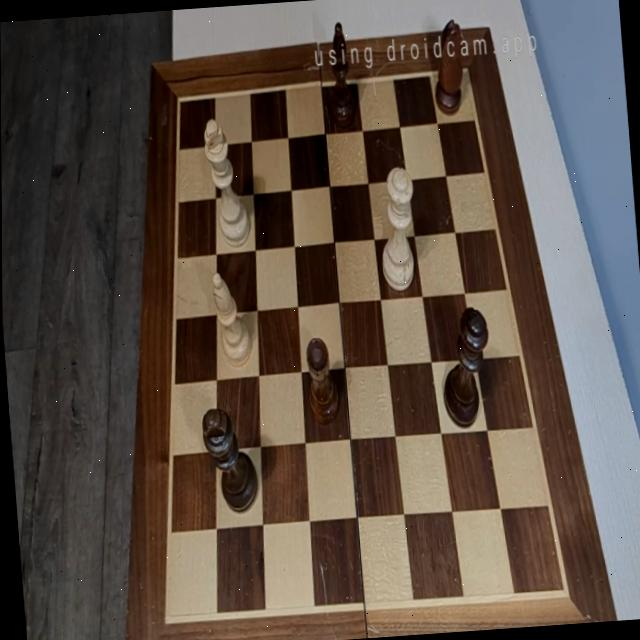black_bishop: (322, 20, 357, 130)
black_king: (199, 405, 259, 516)
black_knight: (427, 18, 471, 114)
black_queen: (435, 305, 494, 427)
black_rook: (303, 336, 340, 426)
white_bishop: (210, 270, 254, 370)
white_king: (201, 116, 251, 249)
white_queen: (374, 166, 420, 292)
